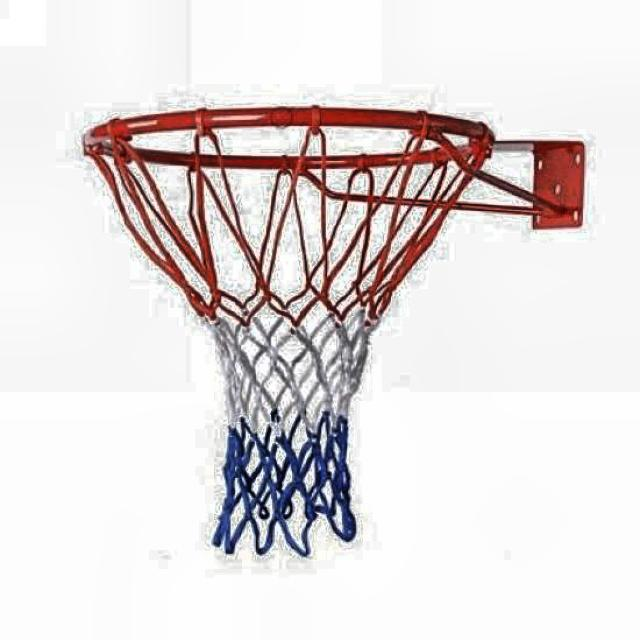rim: (81, 102, 495, 560)
